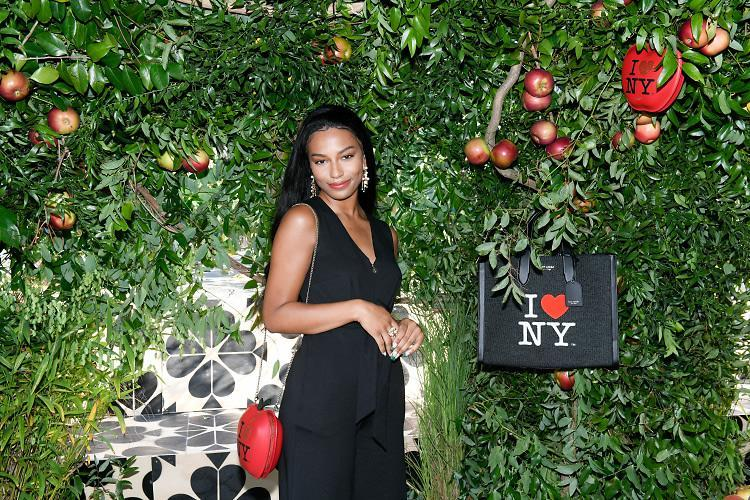apple: (46, 107, 79, 135), (1, 69, 29, 101), (525, 70, 553, 96), (634, 117, 660, 143), (465, 138, 490, 164), (491, 141, 516, 167), (182, 149, 209, 173), (325, 38, 351, 62), (48, 209, 75, 231), (522, 92, 551, 112), (530, 121, 555, 144), (547, 138, 574, 156)
